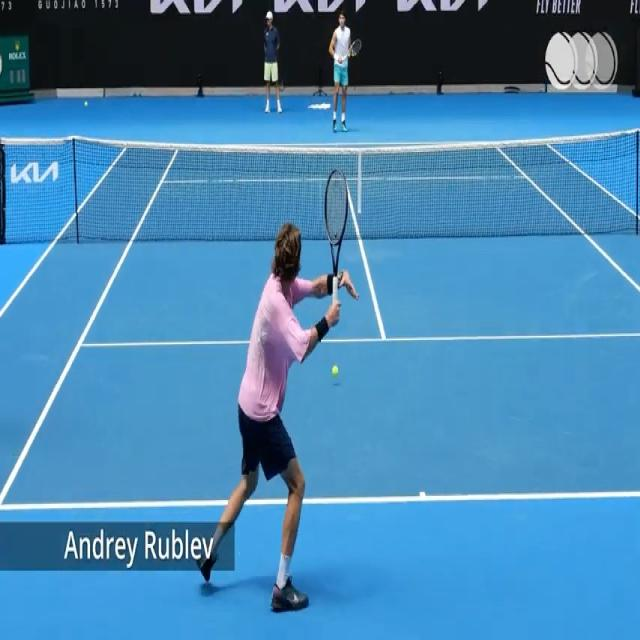forehand-ready: (200, 170, 358, 616)
